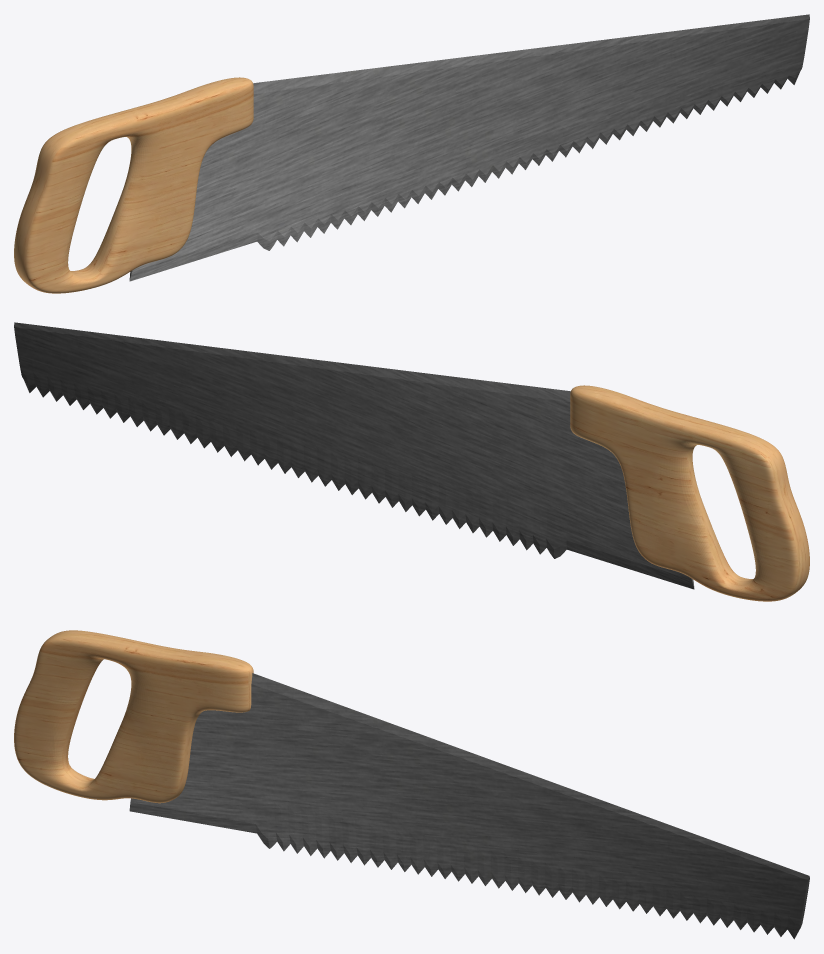
File: saw.fbx
The picture shows the model from 3 angles, top to bottom: view 1: azimuth 30°, elevation 25°; view 2: azimuth 150°, elevation 25°; view 3: azimuth 330°, elevation 25°; orthographic projection.
Parts seen in each view (by area): view 1: Blade, Handle; view 2: Blade, Handle; view 3: Blade, Handle.
Boxes of the visible parts, x1,y1,x2,y2 form: Blade: (129,14,809,281); Handle: (14,77,253,293); Blade: (14,322,694,589); Handle: (570,385,809,601); Blade: (129,673,809,939); Handle: (14,630,253,803).
Bounding box in the file's own units: 9.19 × 1.99 × 0.3.
2 materials, 2 textured.
